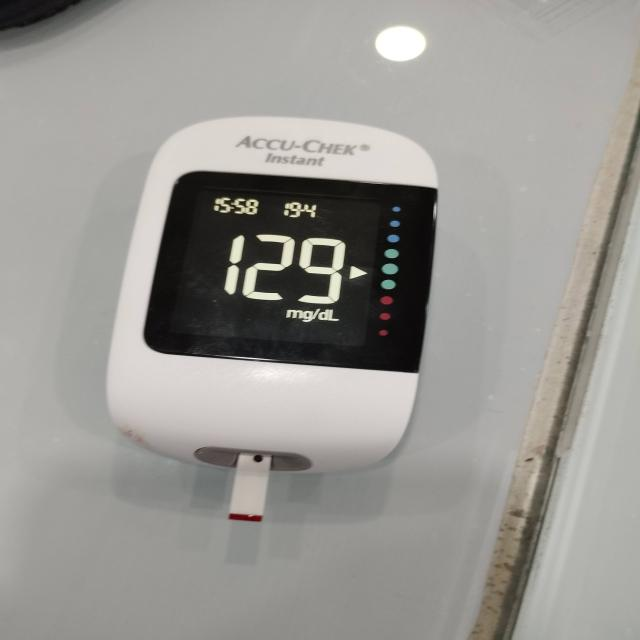gluco: (105, 118, 439, 475)
